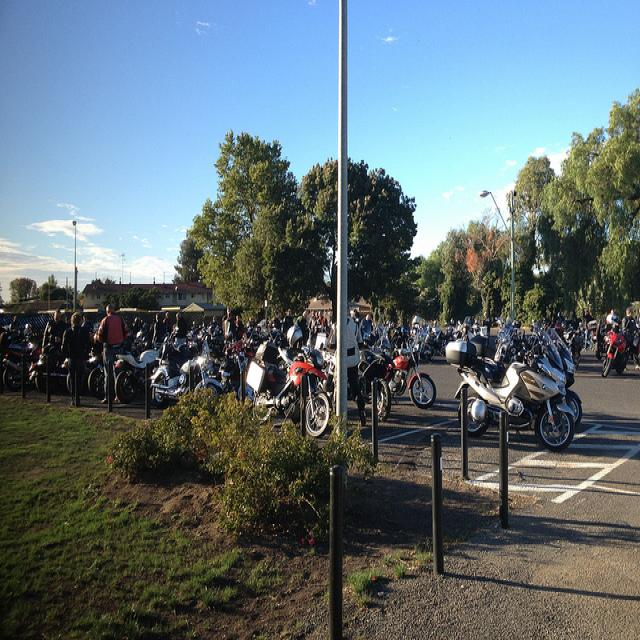motor: (445, 328, 576, 451), (242, 339, 331, 438), (419, 315, 543, 365), (149, 356, 223, 409), (550, 326, 584, 427), (115, 342, 168, 404), (357, 345, 398, 423), (389, 344, 436, 409), (88, 339, 125, 415), (206, 347, 248, 402), (603, 326, 635, 379), (595, 318, 612, 360), (389, 326, 410, 347)
